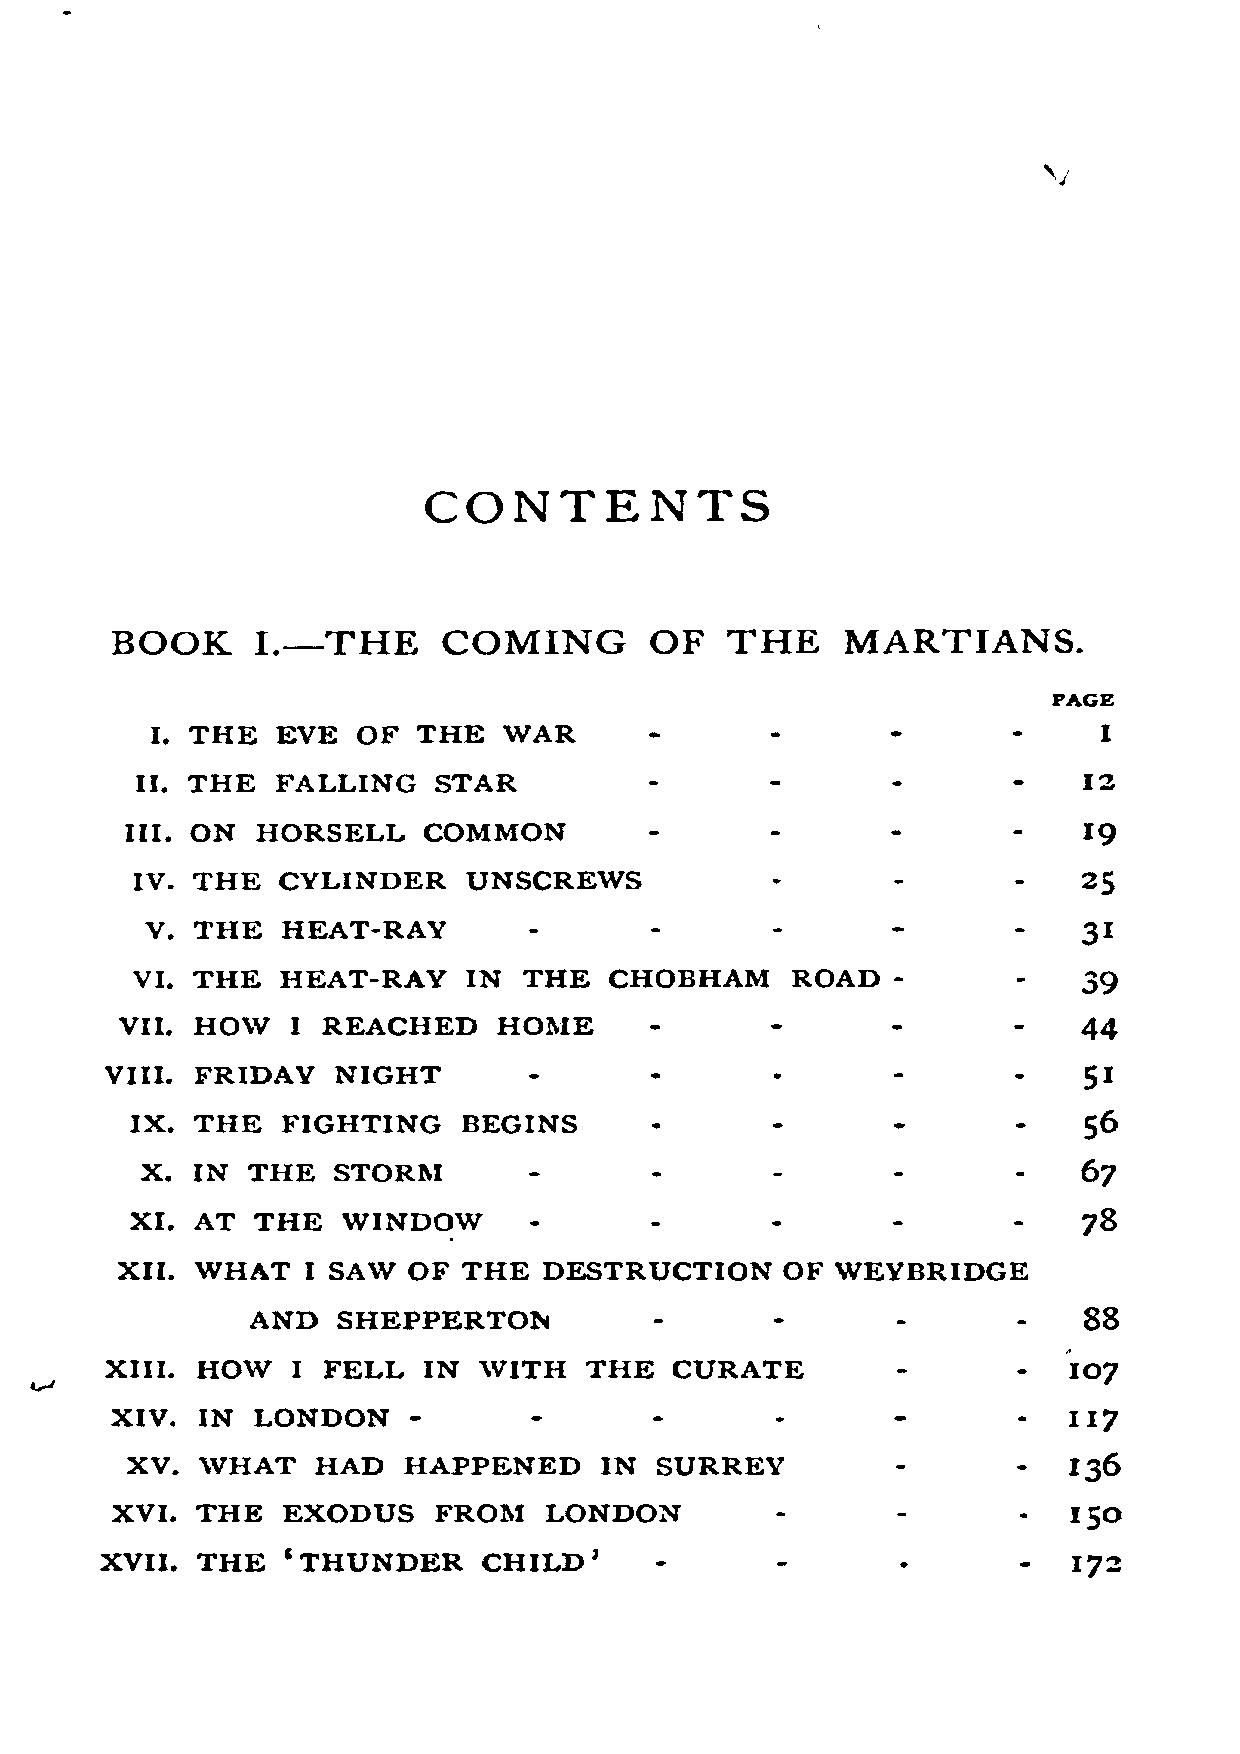TOC_chapter: (111, 1257, 1035, 1333), (103, 1354, 808, 1386), (119, 1453, 786, 1480), (130, 968, 882, 990), (97, 1545, 604, 1576), (109, 1502, 683, 1525), (126, 1110, 578, 1138), (148, 722, 578, 750), (130, 870, 645, 891), (117, 1015, 595, 1037), (126, 1206, 487, 1235), (122, 820, 568, 843), (130, 772, 522, 797), (109, 1400, 395, 1431), (136, 1159, 446, 1185), (101, 1063, 446, 1086), (142, 918, 448, 942)
TOC_pagenumber: (1066, 1547, 1127, 1584), (1068, 1498, 1125, 1537), (1068, 1449, 1129, 1484), (1082, 1298, 1125, 1338), (1066, 1404, 1121, 1435), (1066, 1357, 1121, 1386), (1079, 1204, 1122, 1241), (1080, 1106, 1119, 1142), (1078, 1013, 1123, 1043), (1079, 968, 1121, 998), (1080, 1155, 1117, 1189), (1080, 769, 1121, 796), (1083, 1062, 1117, 1094), (1080, 819, 1117, 848), (1082, 917, 1114, 947), (1082, 867, 1114, 896), (1094, 721, 1121, 750)
chapter: (110, 625, 1090, 658), (423, 487, 776, 522)
